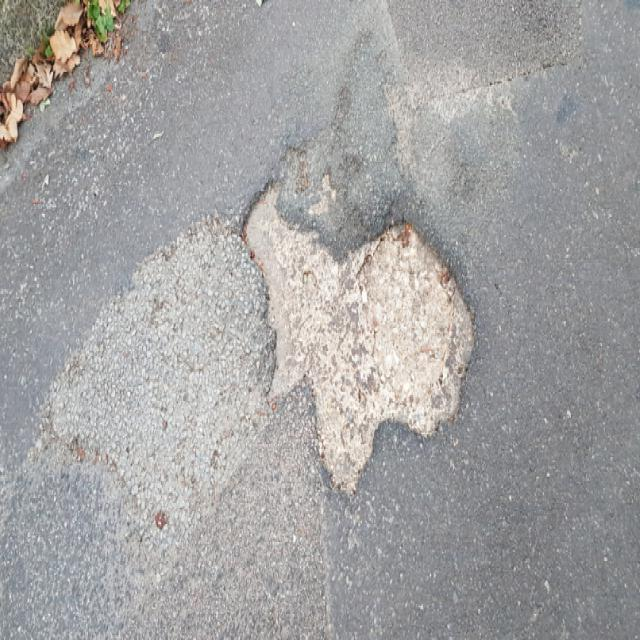Pothole: (241, 168, 479, 498)
